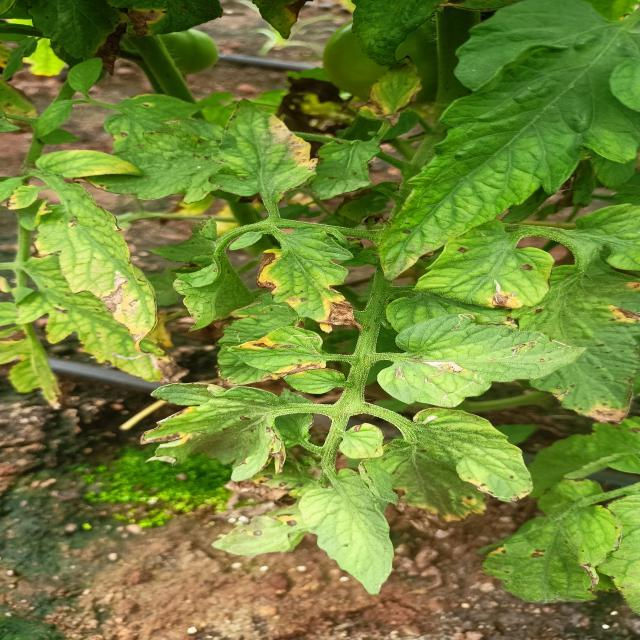Tomato mosaic virus leaf: (26, 202, 160, 354), (246, 228, 366, 334), (424, 224, 554, 313), (204, 98, 320, 197), (23, 0, 128, 78), (186, 391, 294, 449), (221, 325, 330, 378), (370, 208, 440, 282), (518, 333, 592, 383), (125, 0, 225, 36)
